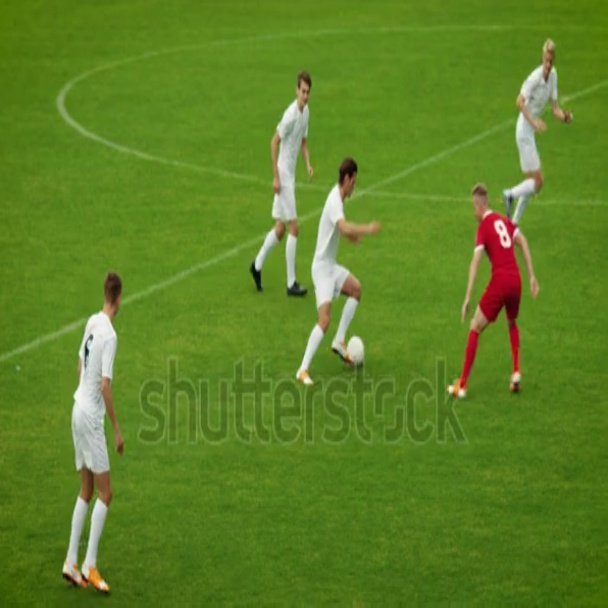ball: (349, 333, 365, 368)
